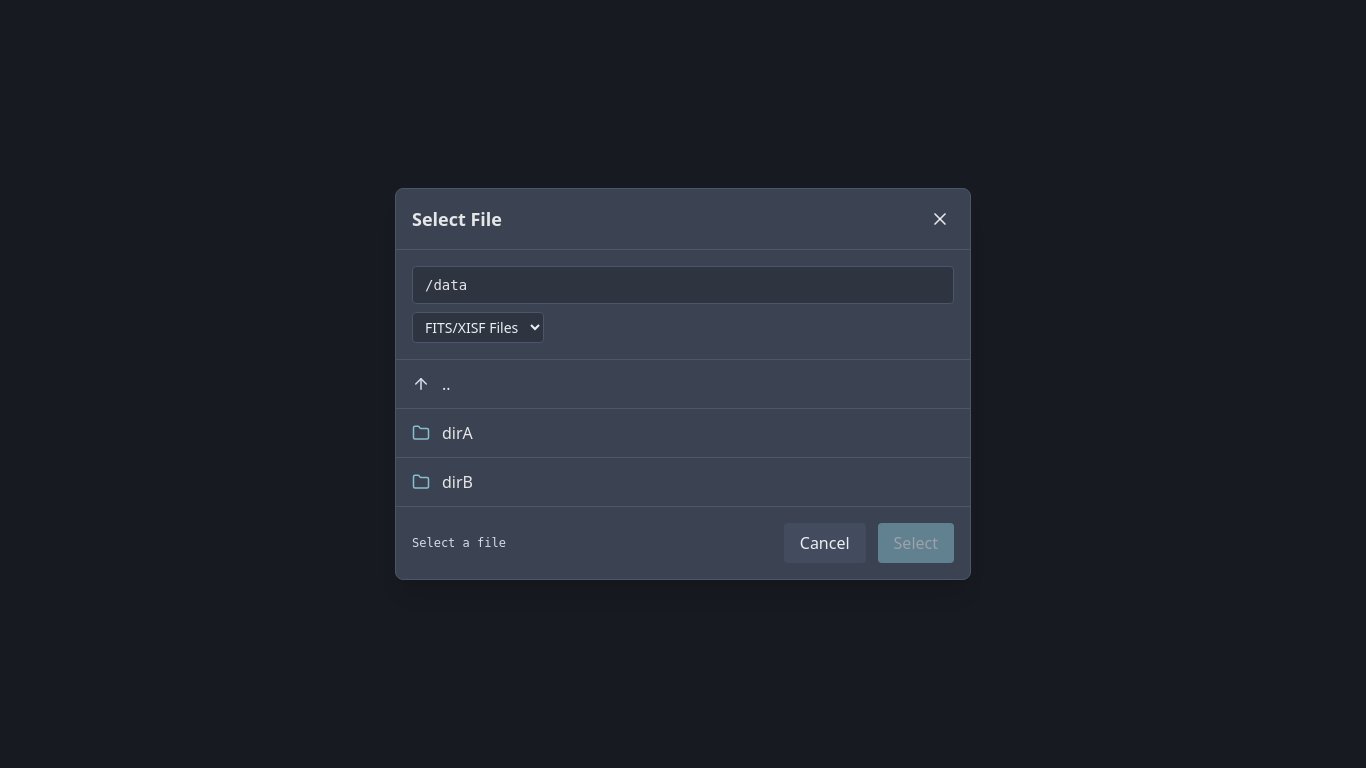
Test: FolderBrowserModal › ordering of answers › a filter change while a navigation is in flight keeps the newer listing
The width and height of the screenshot is (1366, 768).
Click the button "dirA" at (457, 433), box [396,408,970,457]
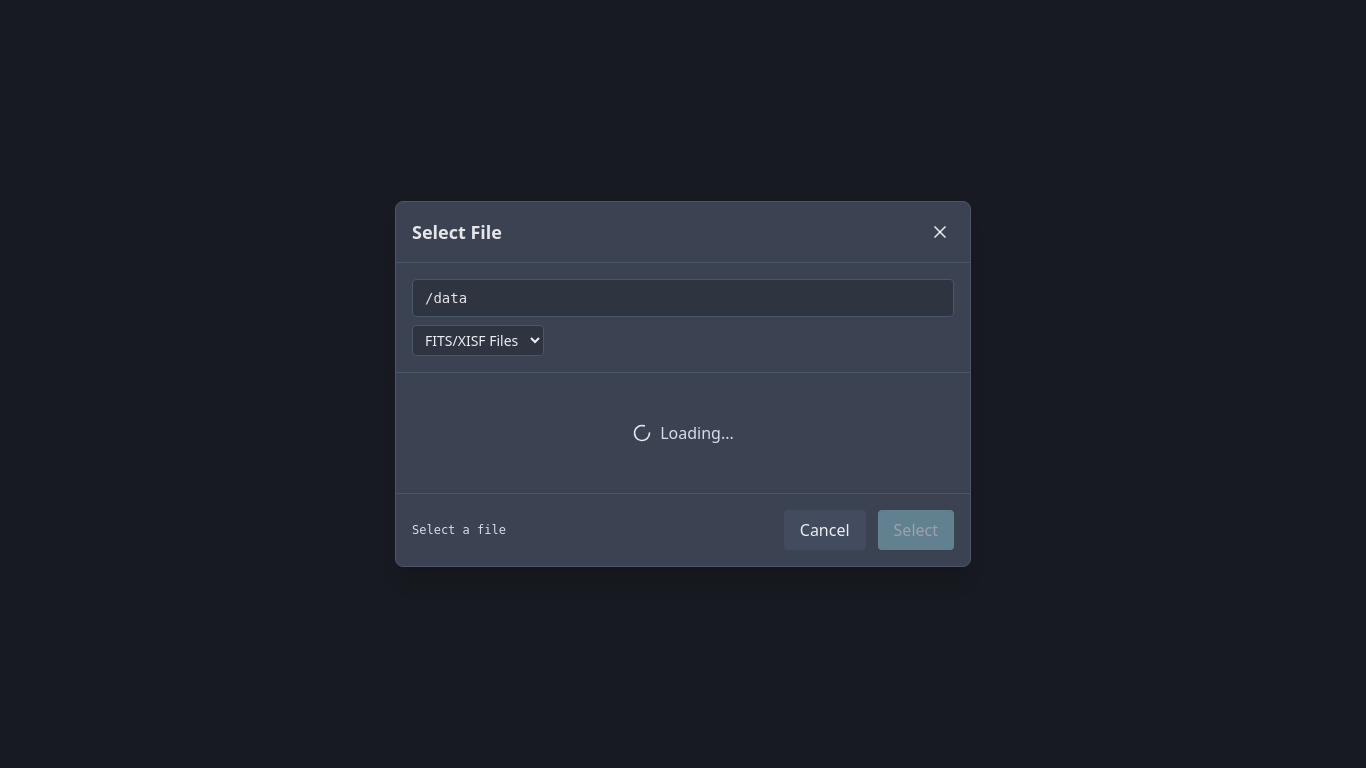
Select "All Files" in the dropdown at (478, 340), box [412,325,544,356]
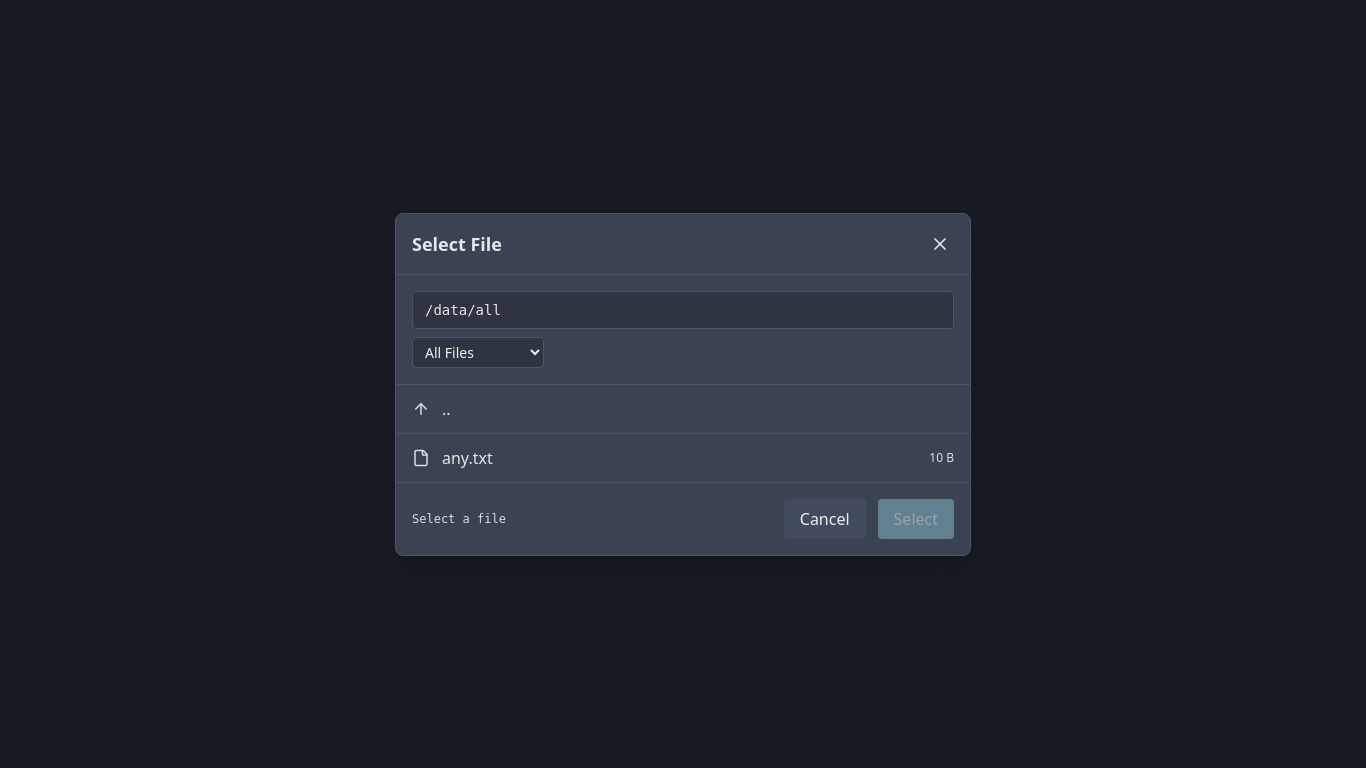
Now the text "any.txt" is shown, box [442,446,493,468]
